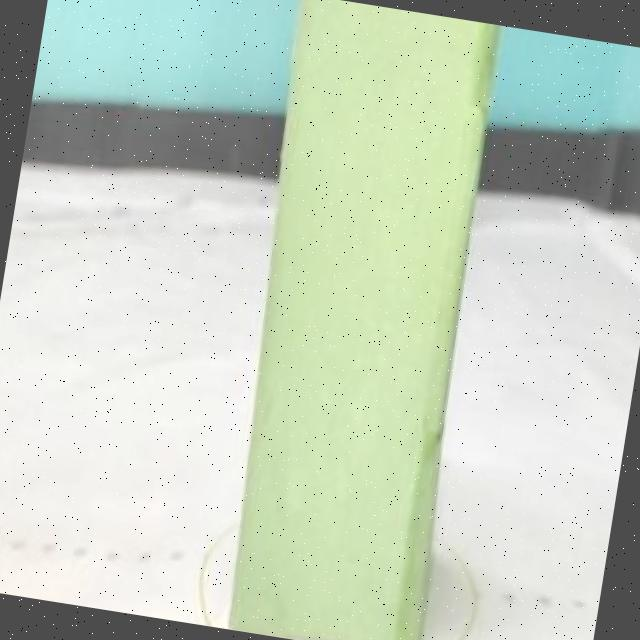greenbox: (198, 0, 519, 640)
